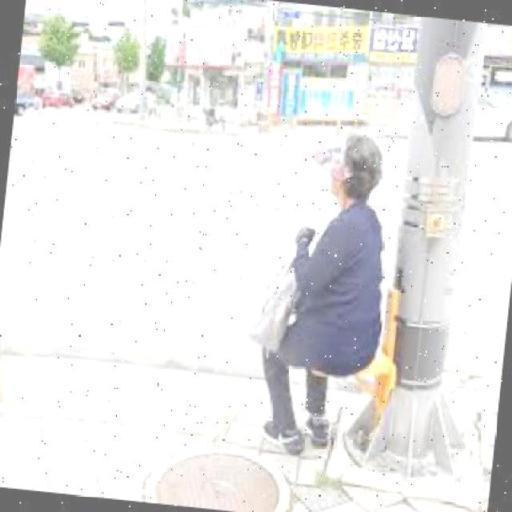pessoa: (231, 128, 393, 454)
